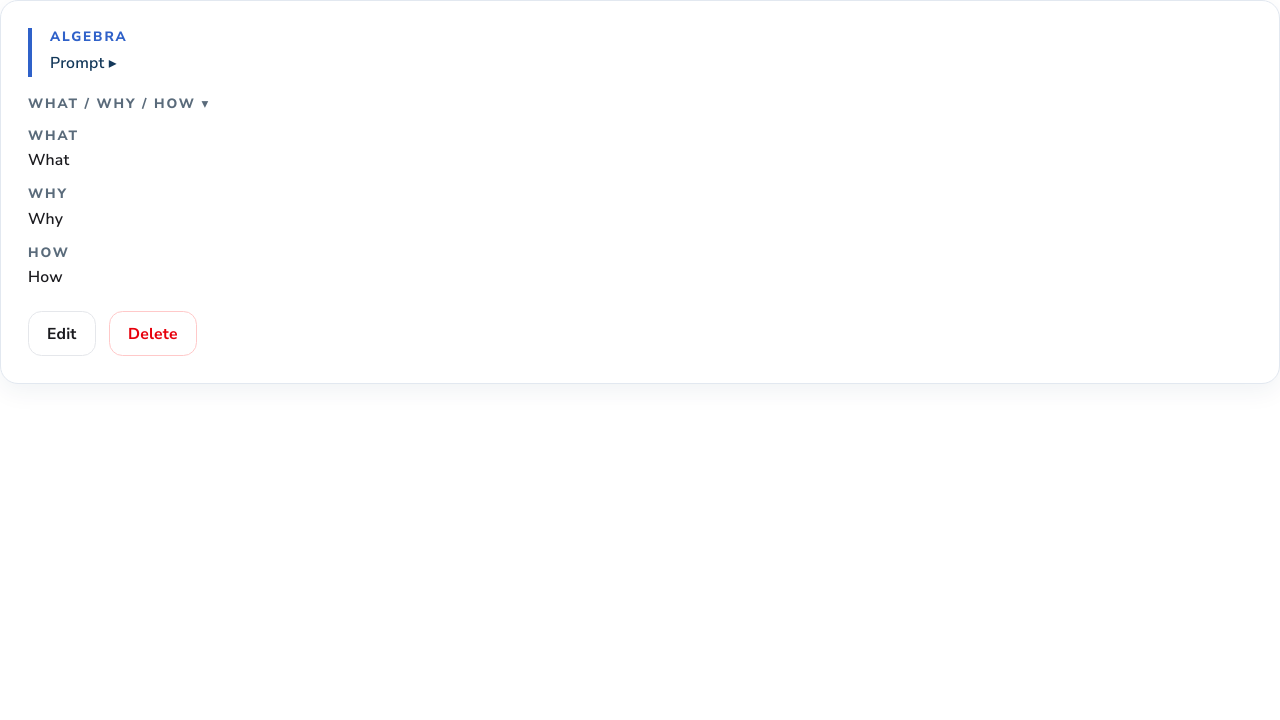
Test: NotebookEntryCard › expands question on click
The width and height of the screenshot is (1280, 720).
Click the text "Prompt ▸" at (83, 64), box [50,52,117,74]
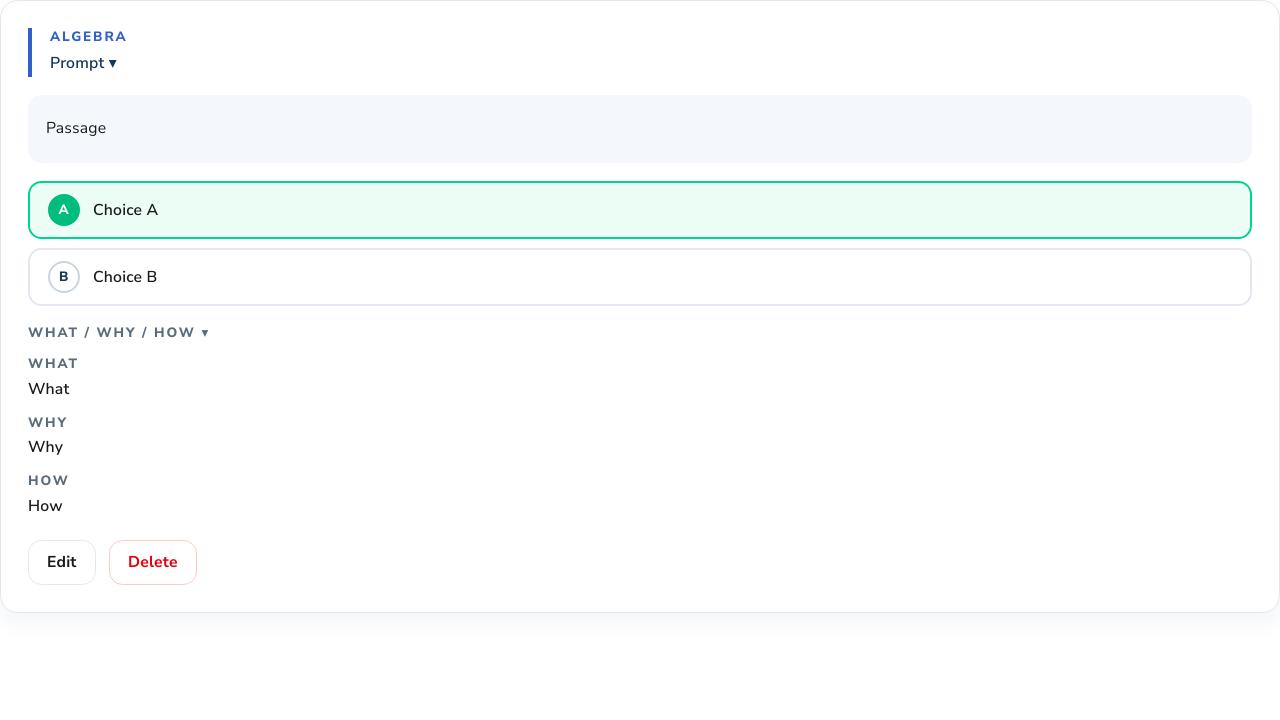
Now the text "Prompt ▾" is shown, box [50,52,117,74]
Now the text "Passage" is shown, box [28,96,1252,163]
Now the text "Choice A" is shown, box [93,199,158,221]
